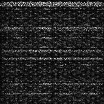lte: (1, 1, 104, 6), (1, 49, 104, 53), (1, 56, 104, 60), (1, 82, 104, 86), (1, 26, 104, 30)
